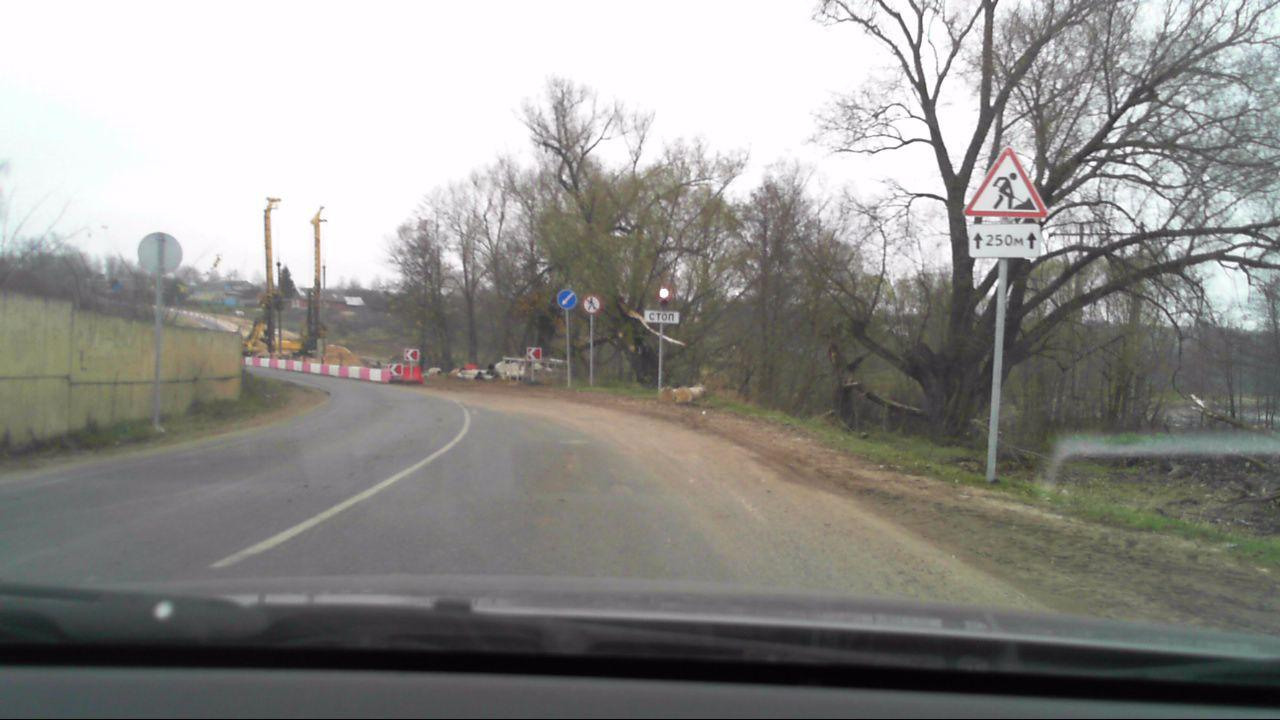1_25: (960, 149, 1048, 220)
1_34_2: (404, 346, 423, 363), (527, 346, 542, 361), (389, 363, 404, 376)
3_10: (581, 296, 598, 312)
4_2_2: (557, 287, 577, 310)
6_16: (645, 311, 679, 323)
8_2_1: (964, 220, 1044, 257)
